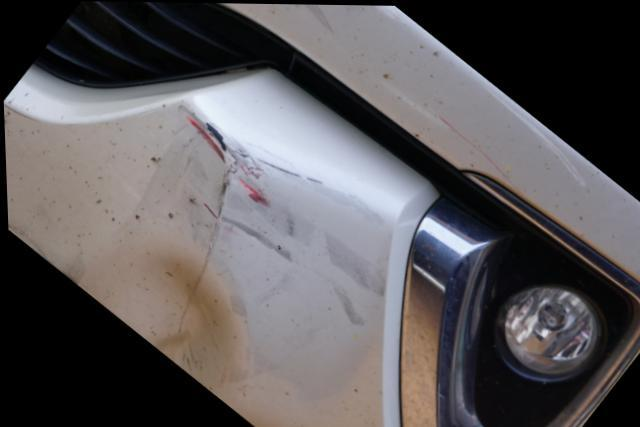dent: (115, 246, 240, 388)
scratch: (165, 98, 400, 334)
